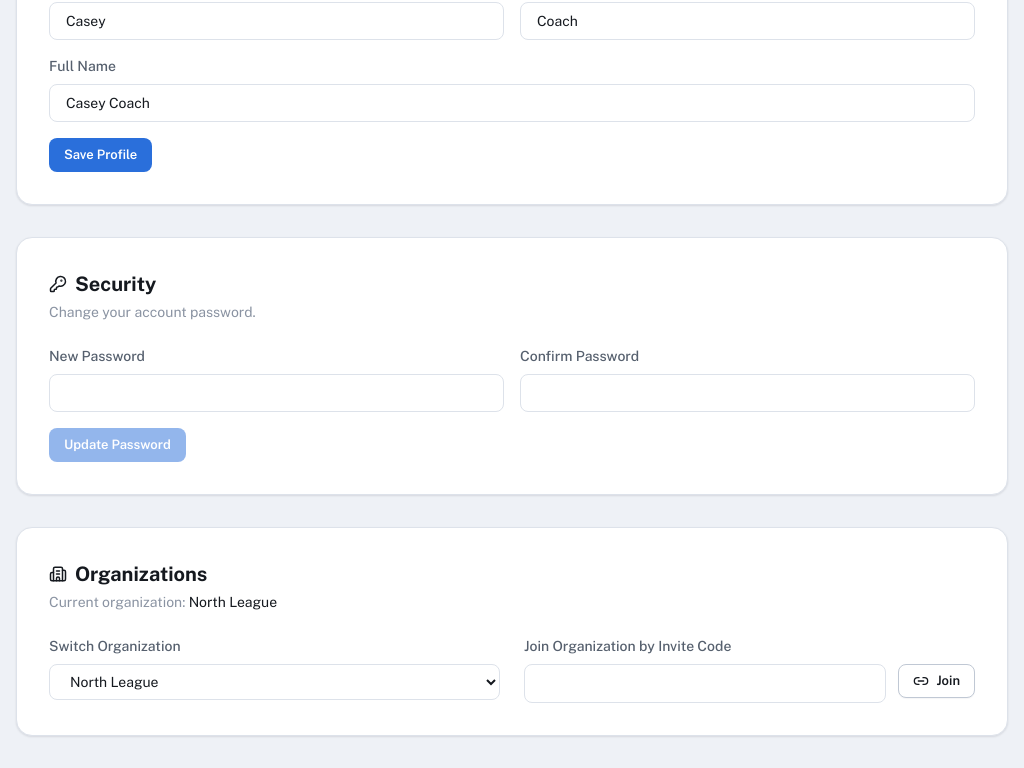
Test: AccountSettingsPage › blocks mismatched password changes and associates the error with both fields
The width and height of the screenshot is (1024, 768).
(page scrolled)
Type "long-password-123" into the password field labelled "New Password" at (276, 393), box top-left (49, 374), bottom-right (504, 412)
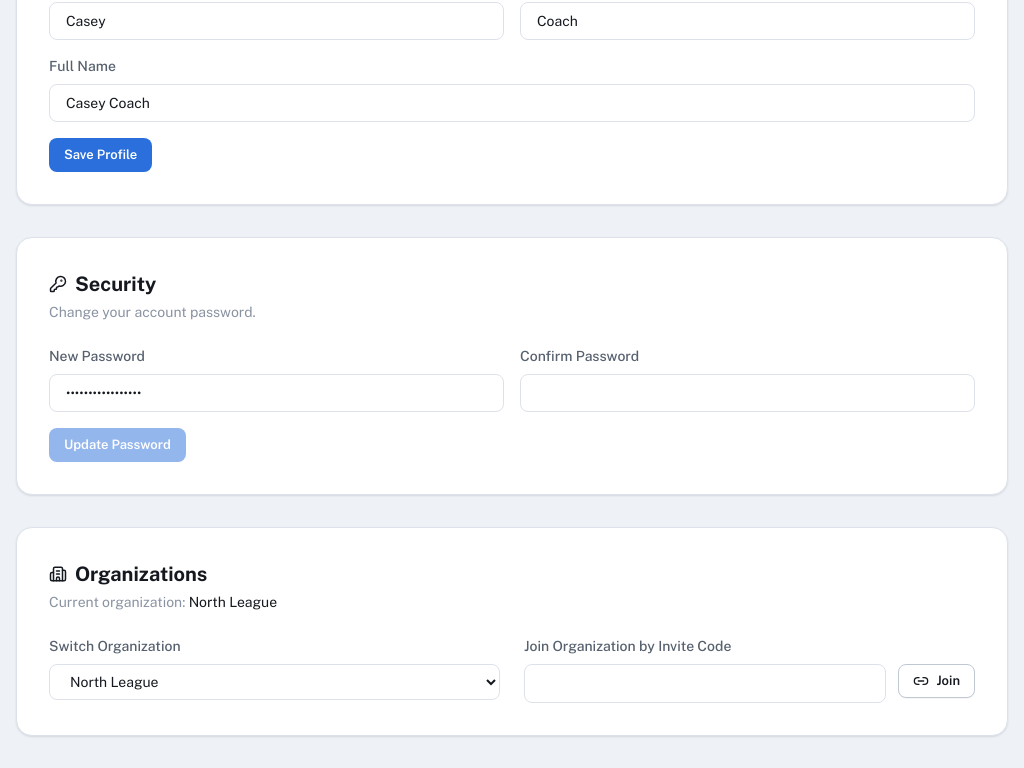
Type "different-password-123" into the password field labelled "Confirm Password" at (748, 393), box top-left (520, 374), bottom-right (975, 412)
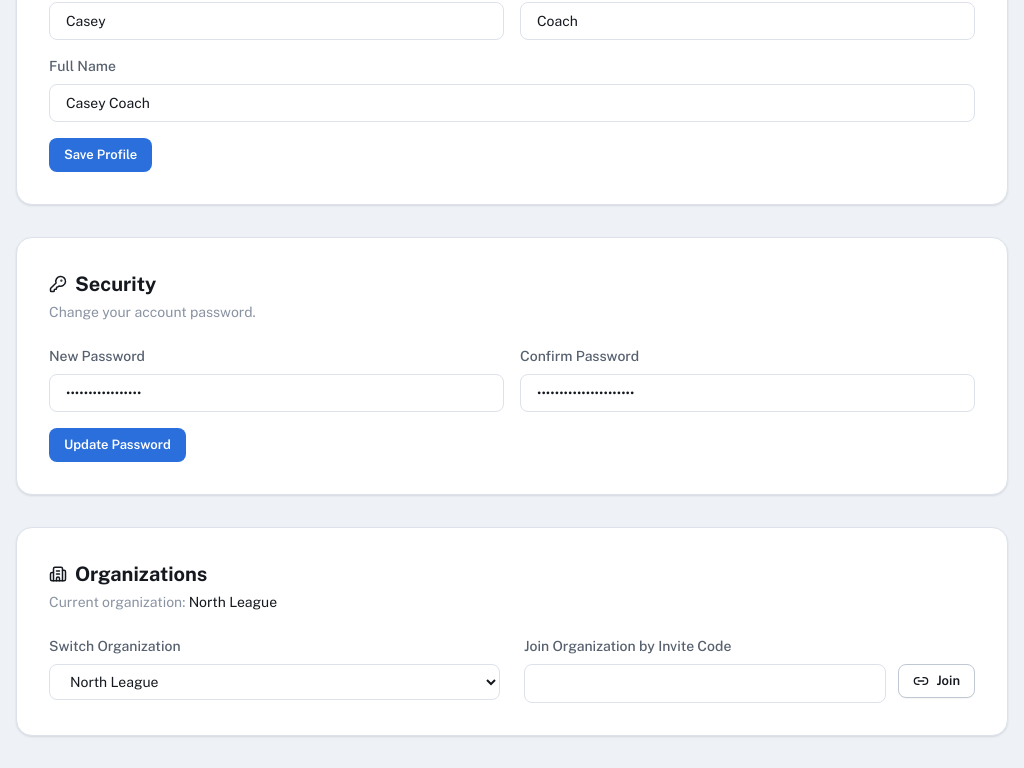
Click the button "Update Password" at (117, 446), box top-left (49, 428), bottom-right (186, 462)
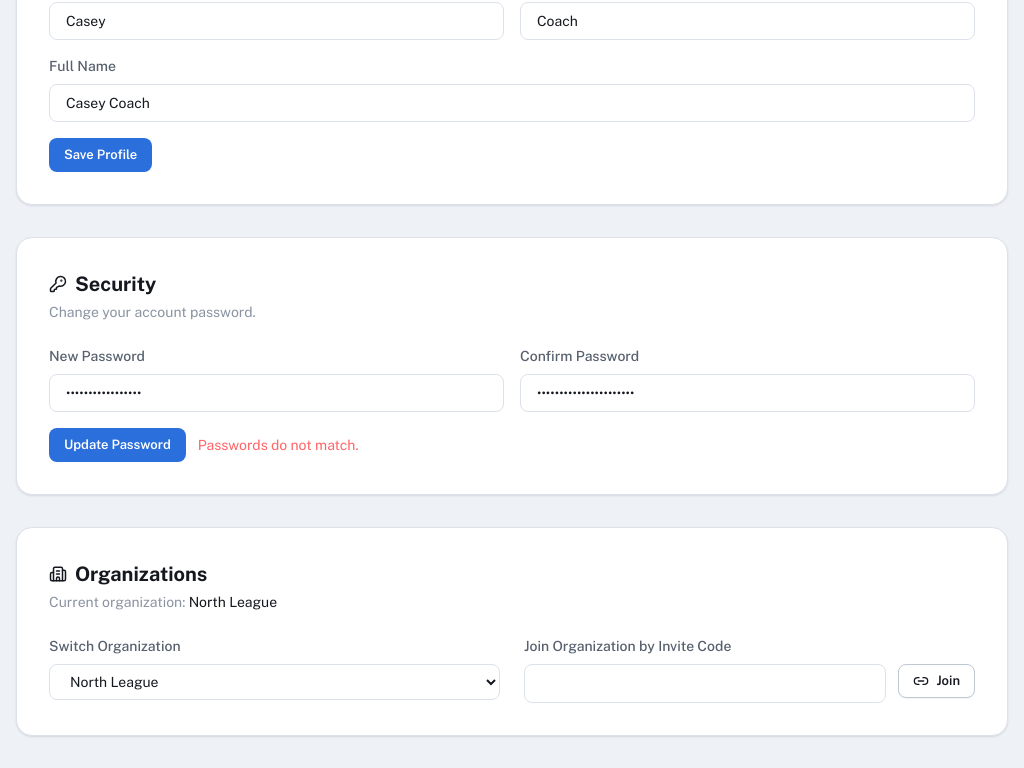
expect the message reads "Passwords do not match.": met, box top-left (198, 438), bottom-right (359, 454)
